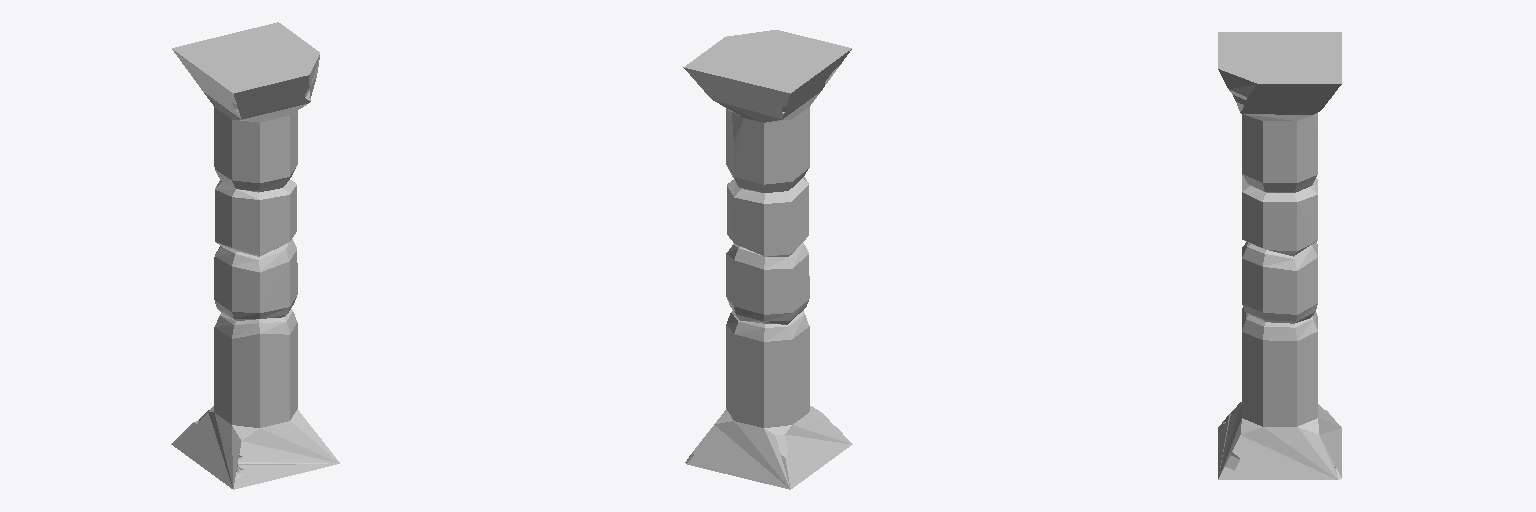
The model's file is pillar.obj.
3 views of the same model, side by side, from view 1: azimuth 30°, elevation 25°; view 2: azimuth 150°, elevation 25°; view 3: azimuth 270°, elevation 25° (orthographic).
Parts seen in each view (by area): view 1: Cube; view 2: Cube; view 3: Cube.
Part boxes in pixels (x1,y1,x2,y2): Cube: (171, 22, 339, 489); Cube: (683, 30, 852, 489); Cube: (1218, 32, 1341, 479).
Size of the model in its own units: 3.6 by 12.71 by 3.6.